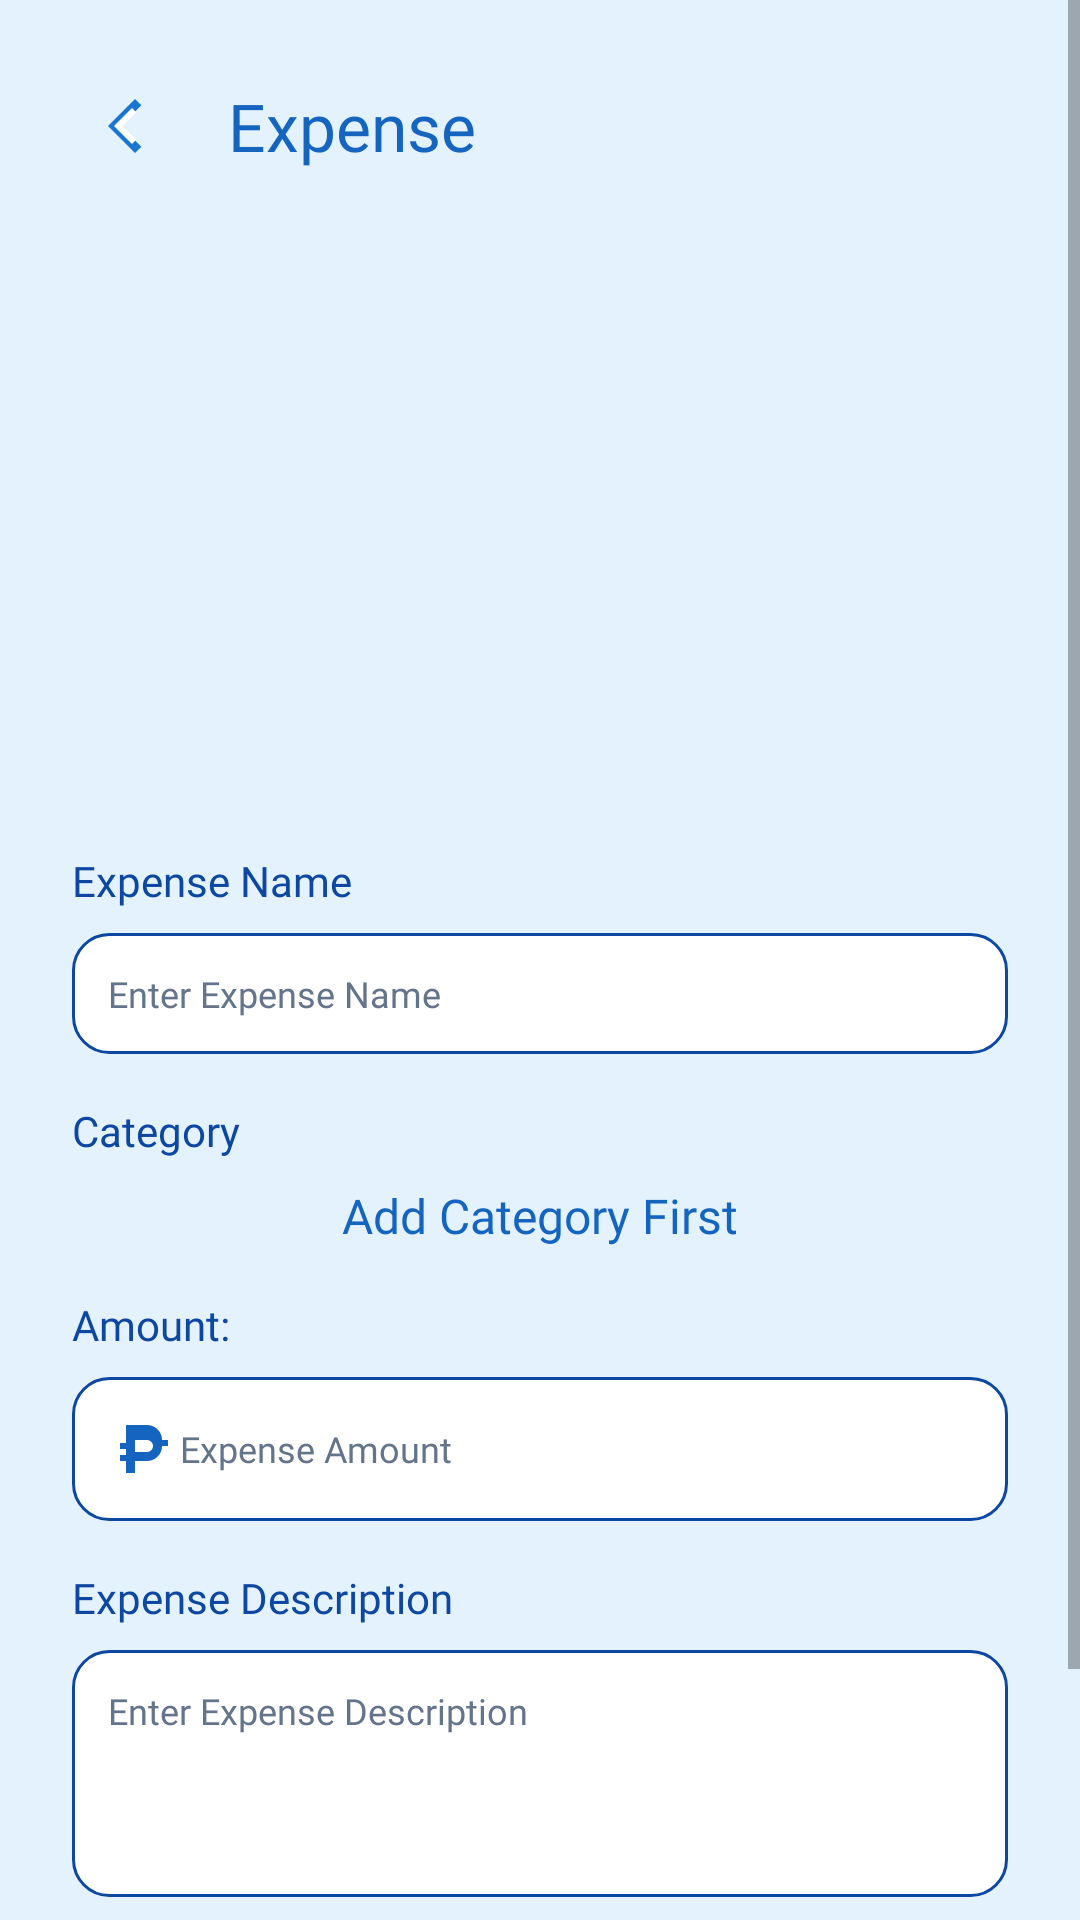

Icon bounding boxes for this 1080 x 1920 phone screenshot, format (x1, y1, x2, y2):
Back Button: (108, 99, 141, 153)
